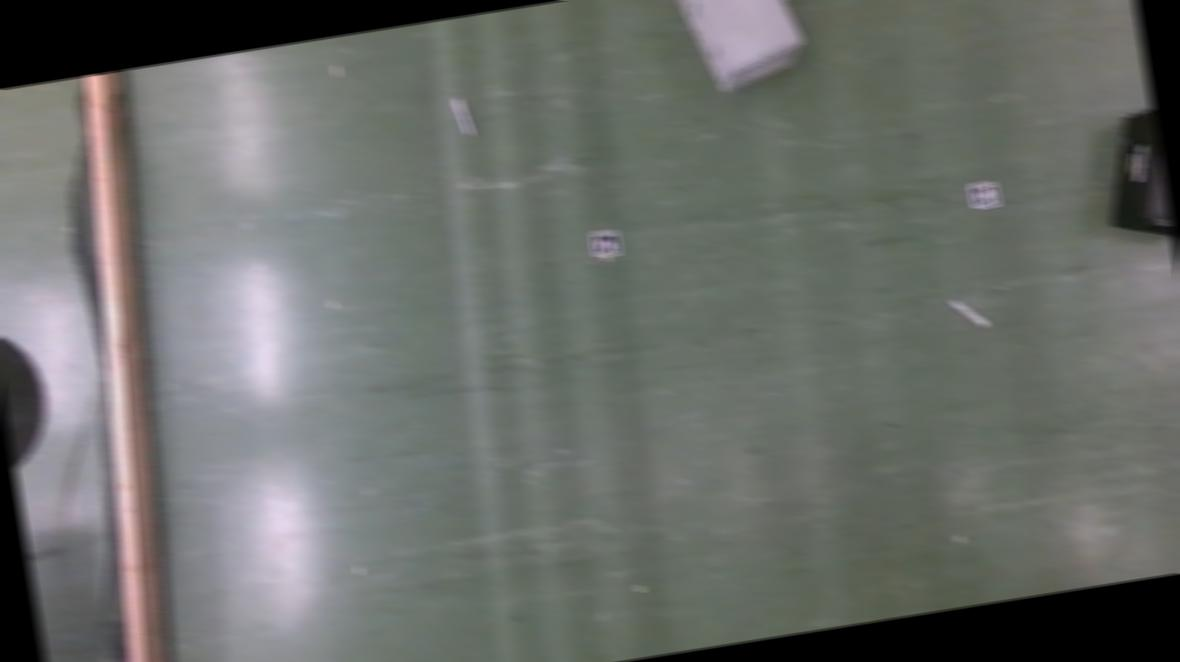probes: (950, 296, 986, 333), (452, 97, 473, 139)
rako: (673, 0, 810, 100), (1093, 103, 1175, 250)
